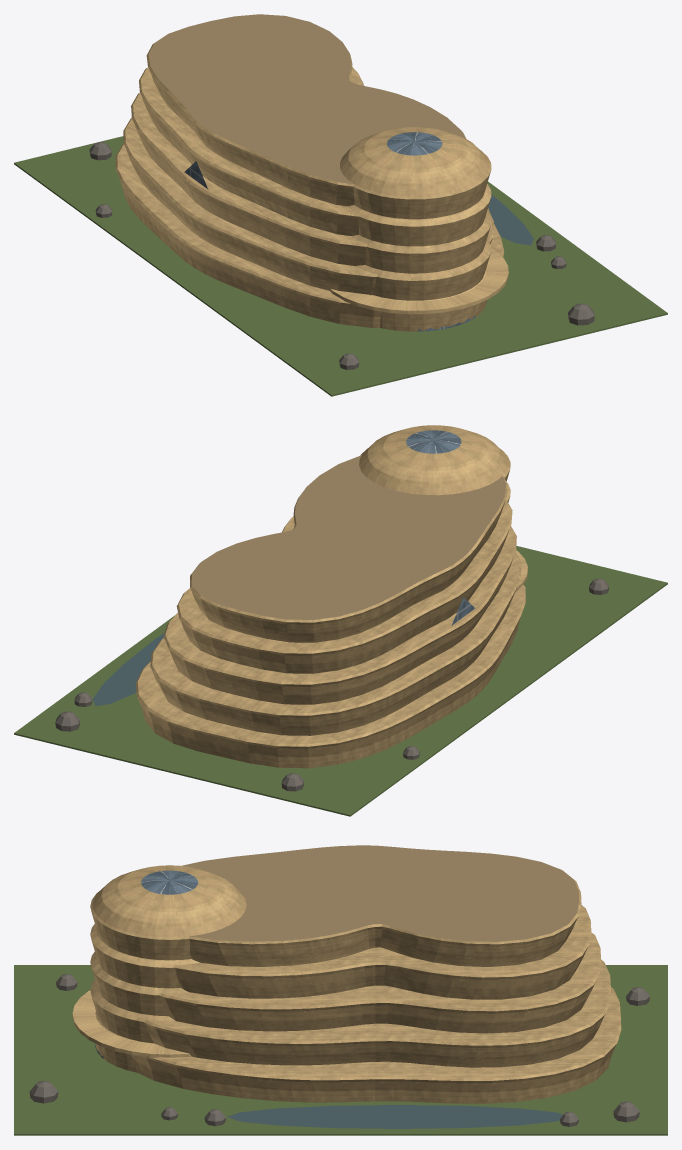
Rendered from nmai.glb.
3 views of the same model, one above another, from view 1: azimuth 30°, elevation 25°; view 2: azimuth 150°, elevation 25°; view 3: azimuth 270°, elevation 25° (orthographic). The views are drawn at different scales.
Parts seen in each view (by area): view 1: nmai; view 2: nmai; view 3: nmai.
Boxes of the visible parts, bbox=[...] form: nmai: bbox=[14, 14, 667, 396]; nmai: bbox=[14, 425, 667, 816]; nmai: bbox=[14, 845, 667, 1135].
Size of the model in its own units: 70.01 by 32 by 114.
3 materials, 3 textured.
